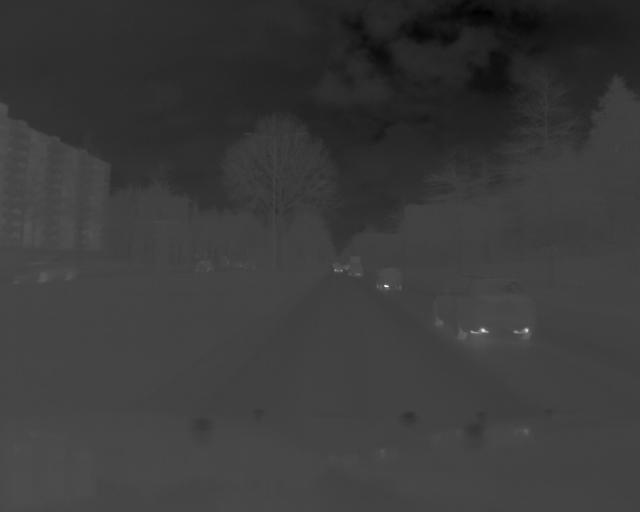car: (427, 274, 537, 347), (373, 267, 405, 294)
